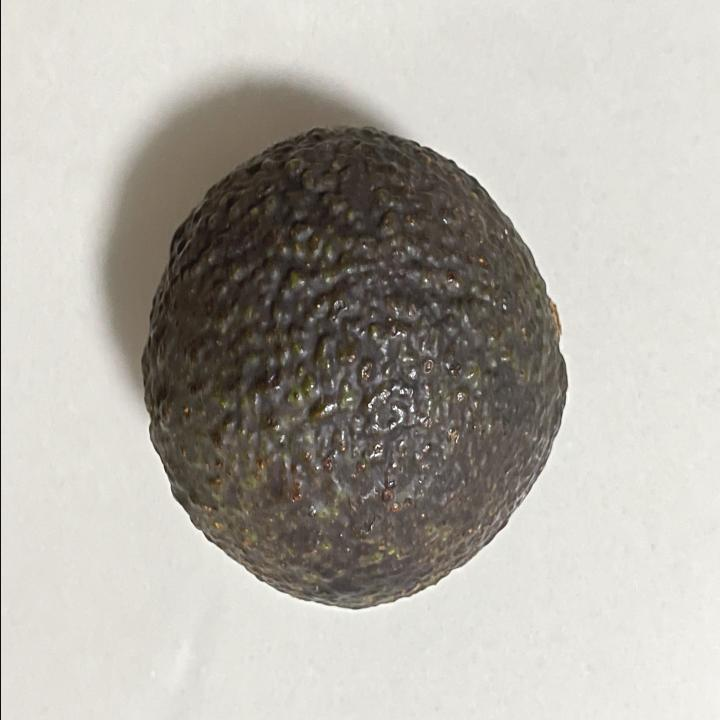Level1: (124, 102, 582, 630)
